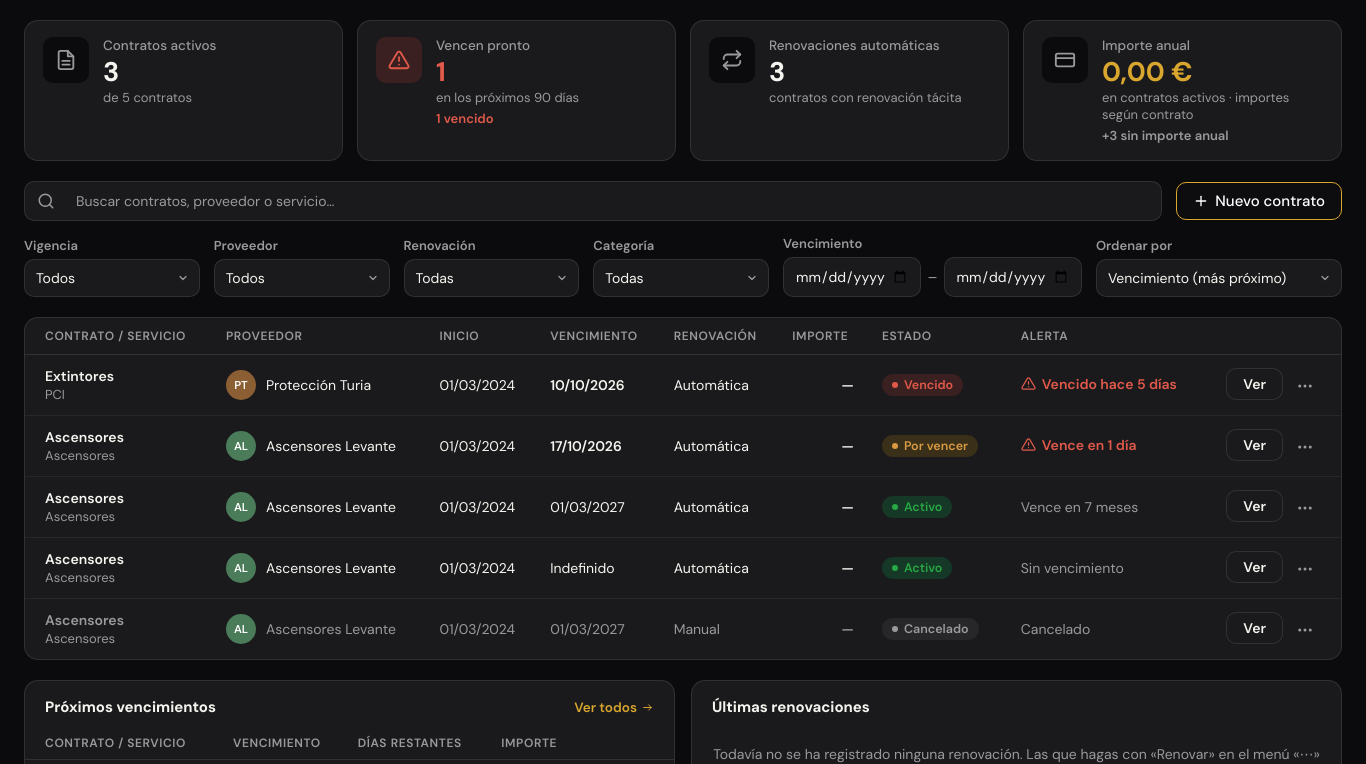
it: ContractsTabComponent › gestión de contratos (D1, D2, D3) › cancelar: pide confirmación y, al confirmar, recarga y avisa; «Volver» no toca nada
The image size is (1366, 764).
Click the button with class "table__more" in the row of "Vence en 7 meses". click: (1305, 508)
box: [1289,492,1321,524]
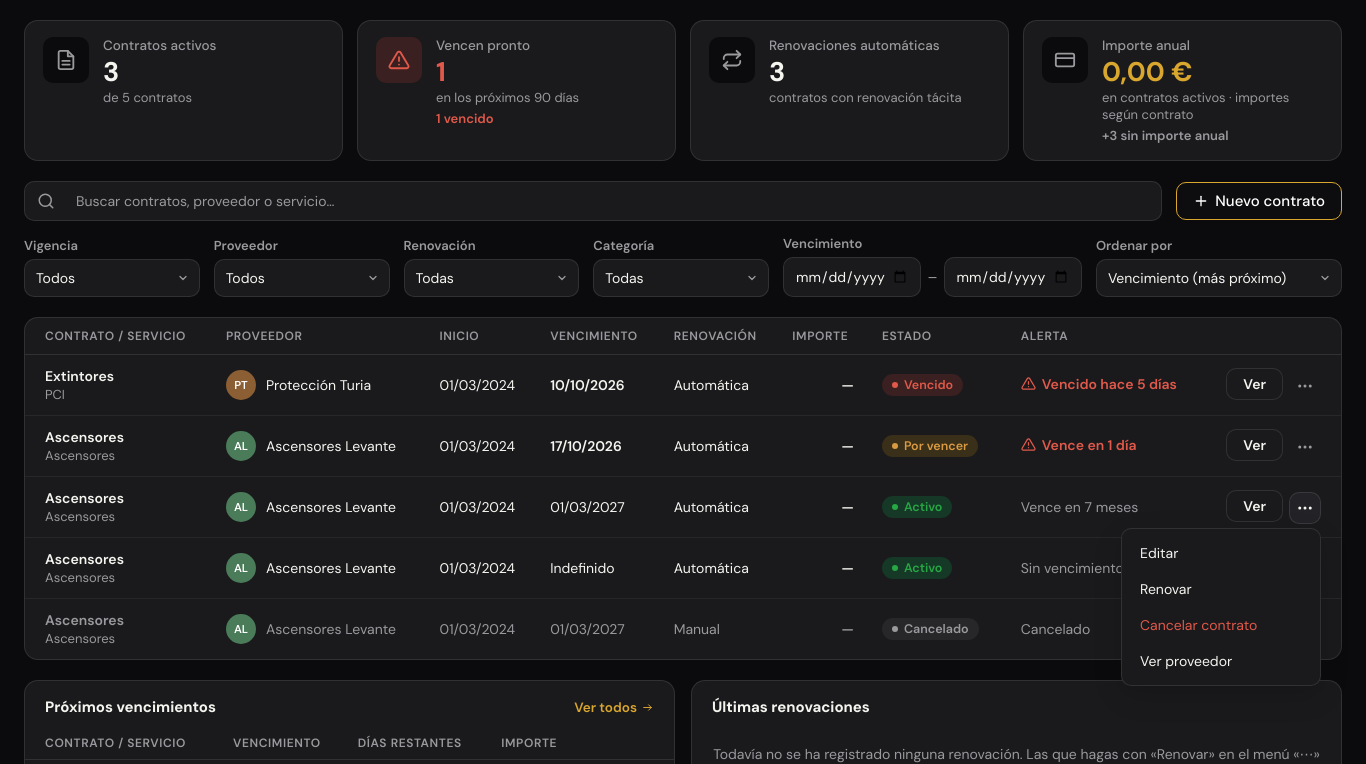
Click the menu item "Cancelar contrato". click: (1221, 625)
box: [1128,607,1314,643]
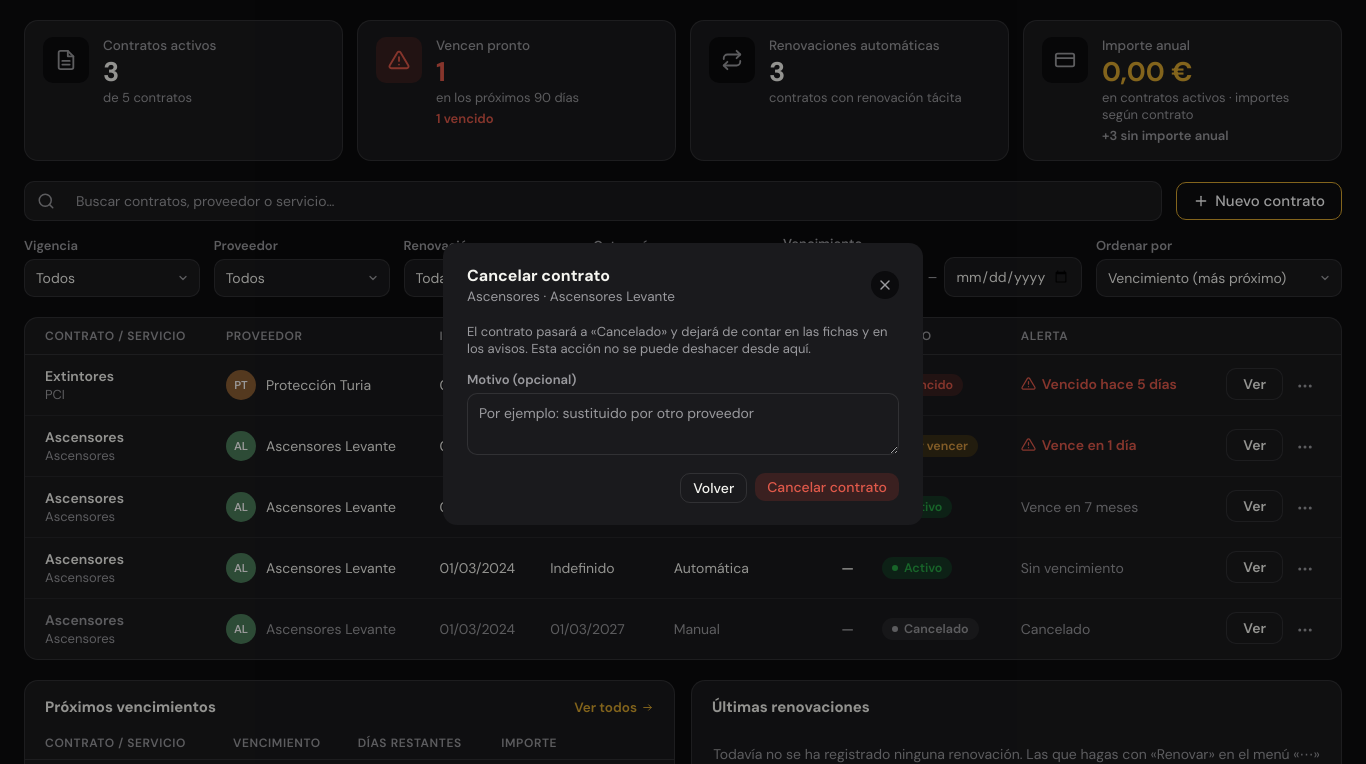
Now the heading with id "cc-title" reads "Cancelar contrato", box [467,265,610,286]
Click the button "Volver". click: (714, 488)
box: [680,473,747,503]
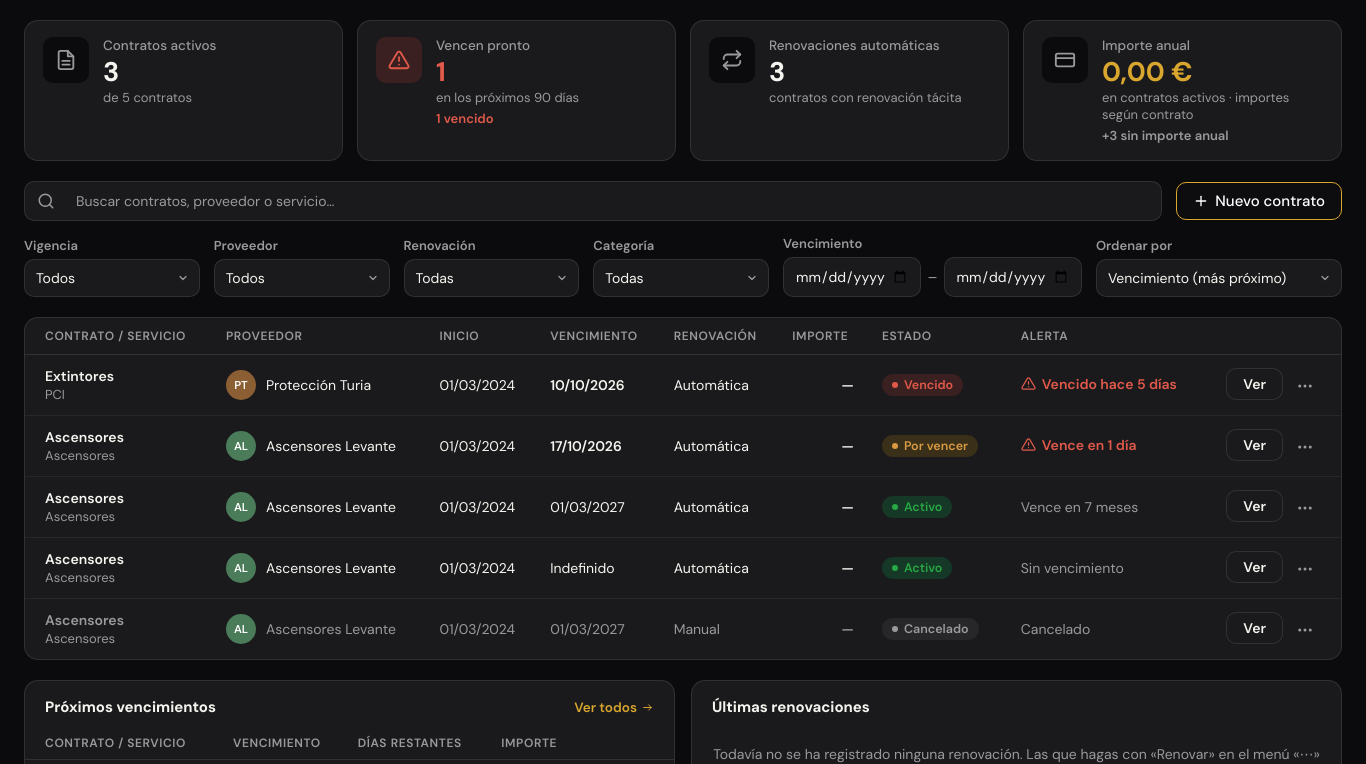
Click the button with class "table__more" in the row of "Vence en 7 meses". click: (1305, 508)
box: [1289,492,1321,524]
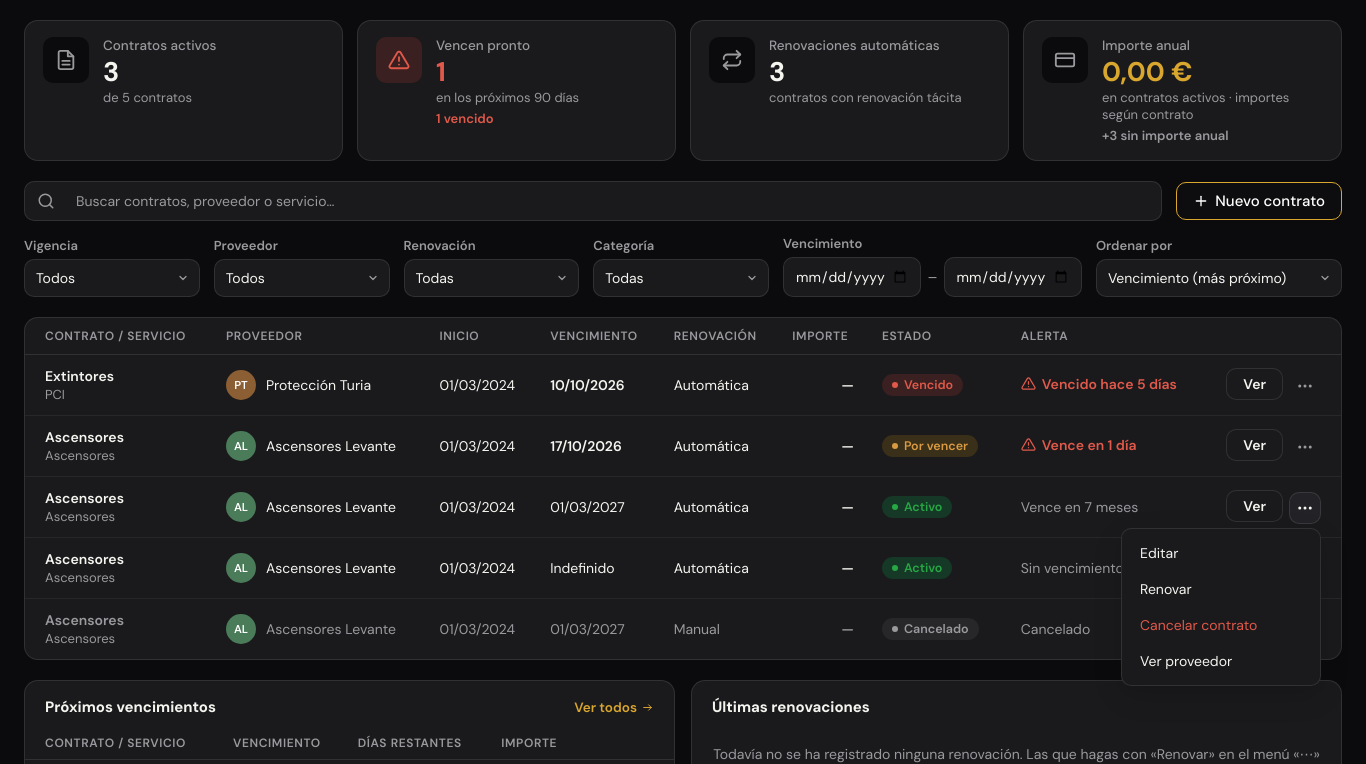
Click the menu item "Cancelar contrato". click: (1221, 625)
box: [1128,607,1314,643]
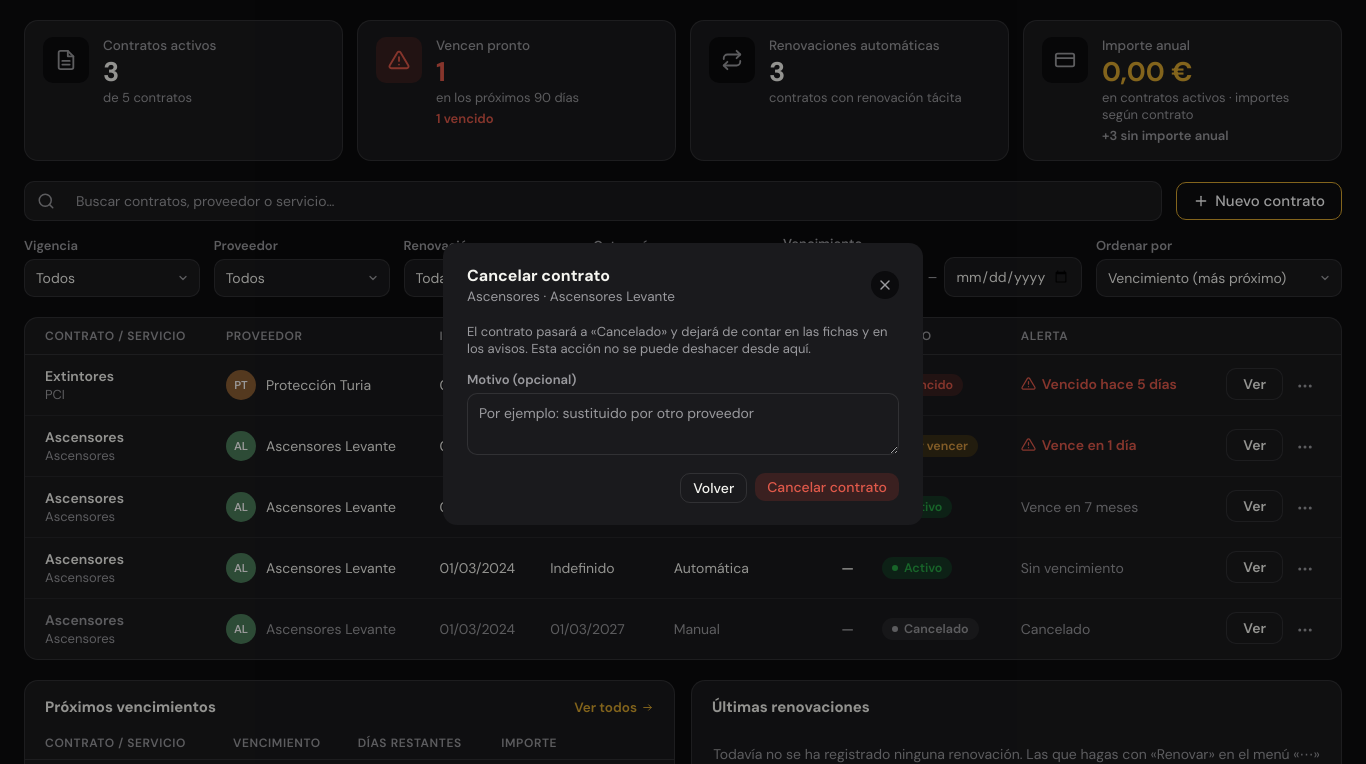
Click the button "Cancelar contrato". click: (827, 487)
box: [755,473,899,501]
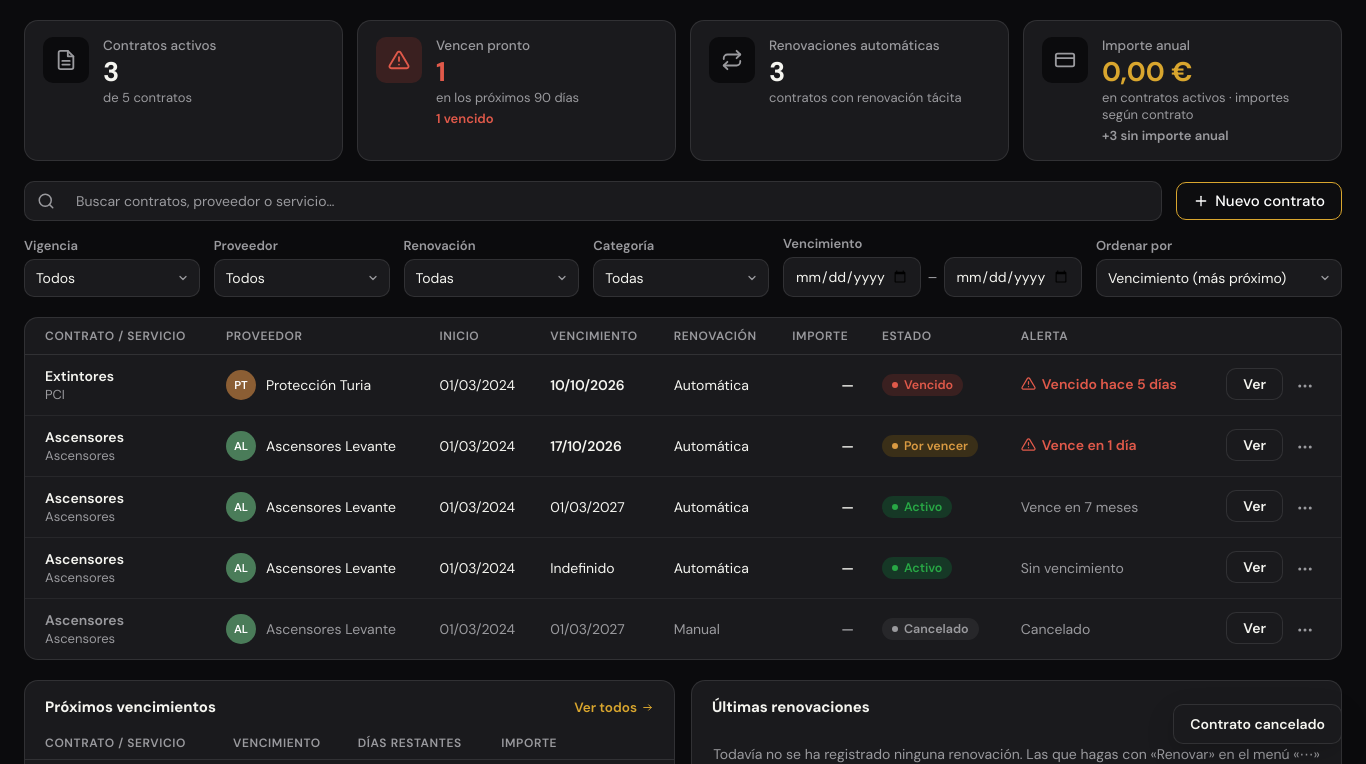
Now the message with class "contracts__toast" reads "Contrato cancelado", box [1190,715,1325,733]
